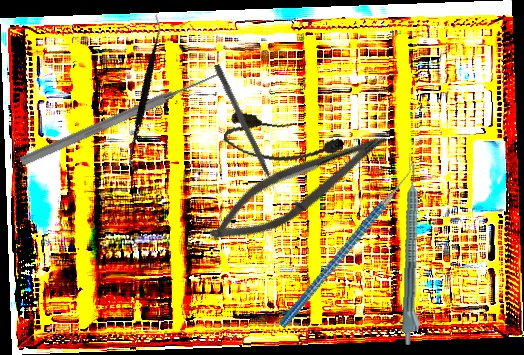Cannula: (221, 110, 346, 174)
Chopper: (238, 151, 456, 330)
Handpiece: (400, 162, 428, 346)
Micro Scissor: (199, 108, 398, 264)
Pusher: (18, 67, 223, 169), (212, 63, 281, 199)
Spatula Surgical: (83, 14, 209, 175)
